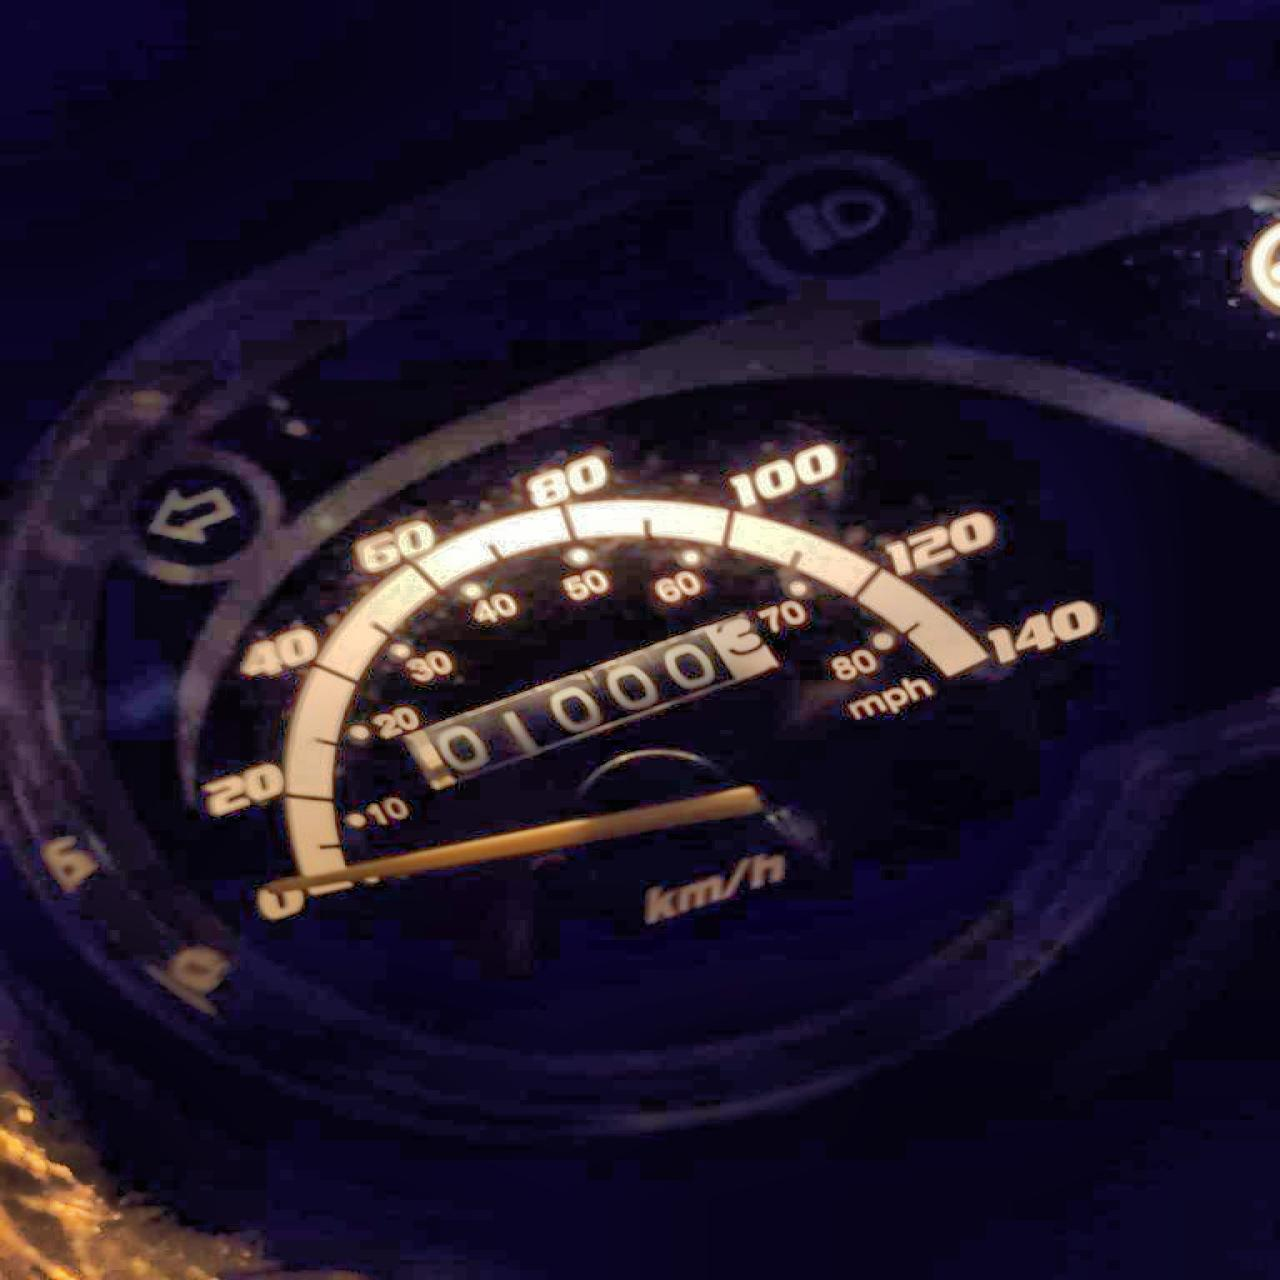0: (546, 683, 598, 733), (662, 641, 715, 688), (435, 724, 489, 770), (604, 662, 656, 708), (425, 648, 451, 674), (392, 704, 418, 729)
1: (499, 709, 538, 755)
3: (713, 614, 764, 655), (406, 655, 431, 681)
7: (754, 605, 779, 631)
odometer: (400, 608, 782, 792)
